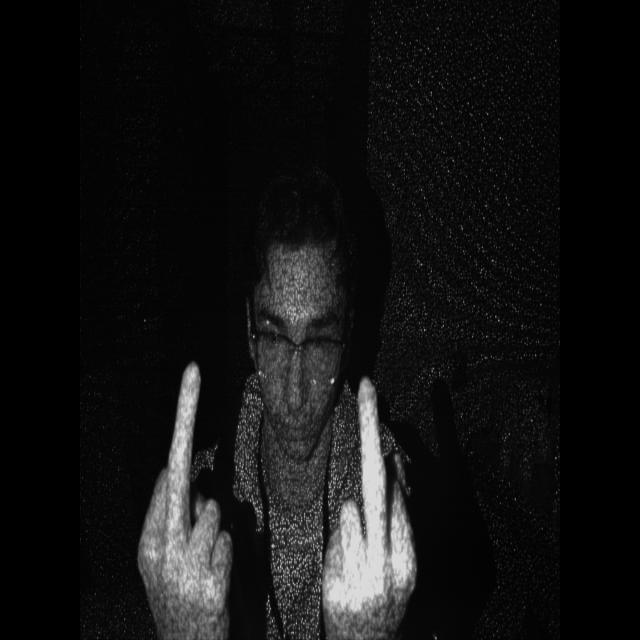FUCK YOU: (135, 349, 257, 613), (304, 363, 429, 620)
